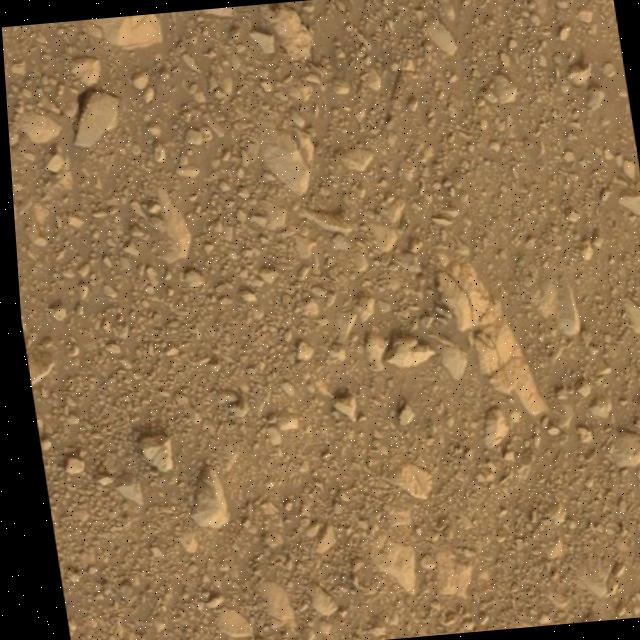mars-rocks: (69, 90, 115, 146), (86, 13, 160, 47), (182, 466, 219, 528), (379, 336, 428, 368), (130, 435, 164, 472)
